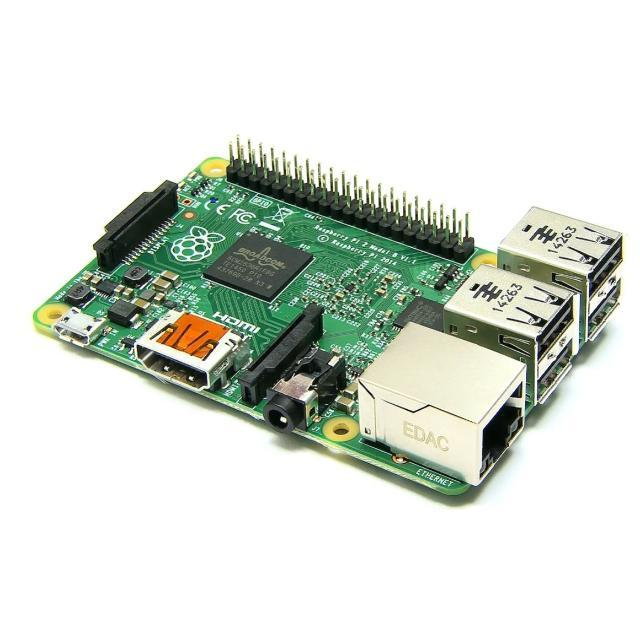Raspberry-Pi-2-B: (49, 141, 624, 495)
